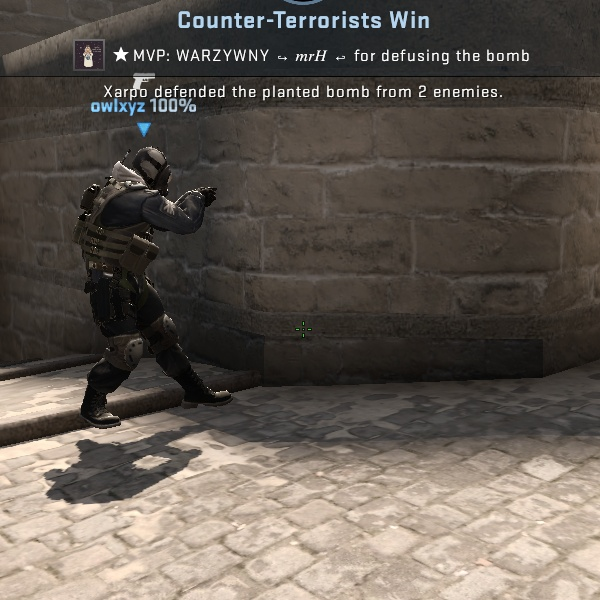ct_body: (55, 140, 228, 435)
ct_head: (113, 138, 179, 200)
